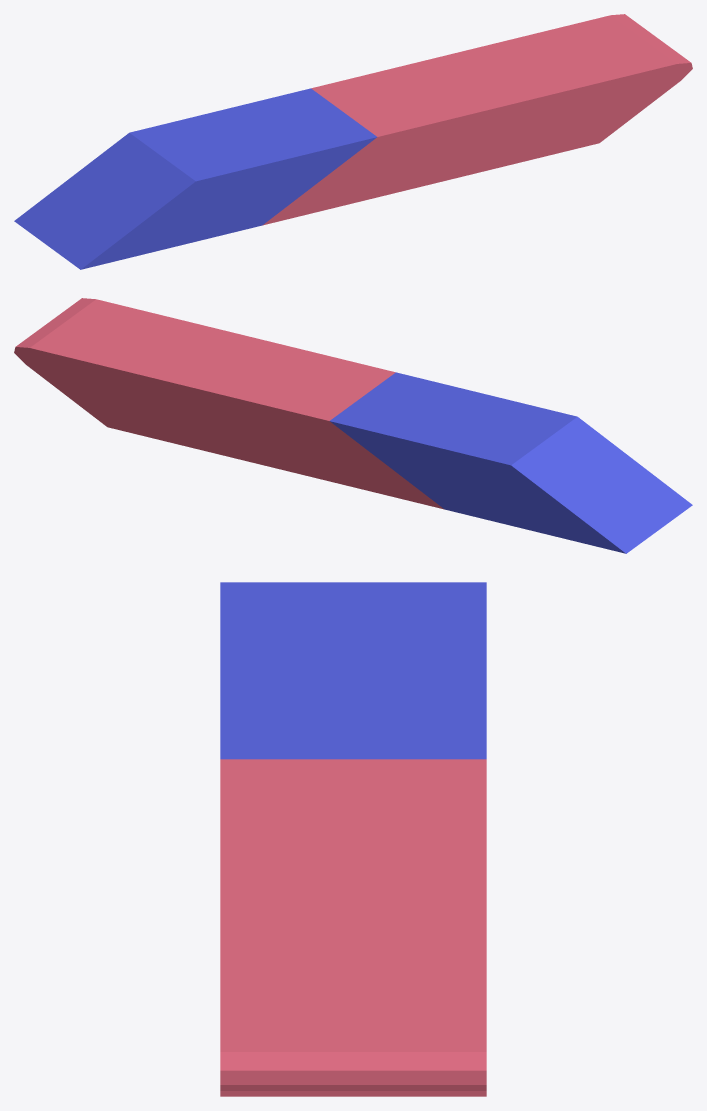
Rendered from rubber.glb.
3 views of the same model, one above another, from view 1: azimuth 30°, elevation 25°; view 2: azimuth 150°, elevation 25°; view 3: azimuth 270°, elevation 25° (orthographic). The views are drawn at different scales.
Parts seen in each view (by area): view 1: rubber; view 2: rubber; view 3: rubber.
Part boxes in pixels (x1,y1,x2,y2): rubber: [14, 14, 692, 269]; rubber: [14, 298, 692, 553]; rubber: [220, 582, 486, 1096].
Bounding box in the file's own units: 0.1062 × 0.01 × 0.02.
